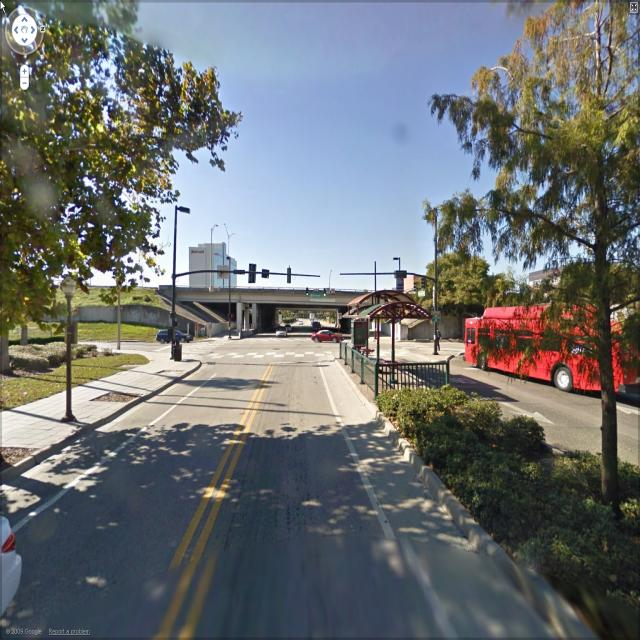b_2: (174, 230, 250, 300)
